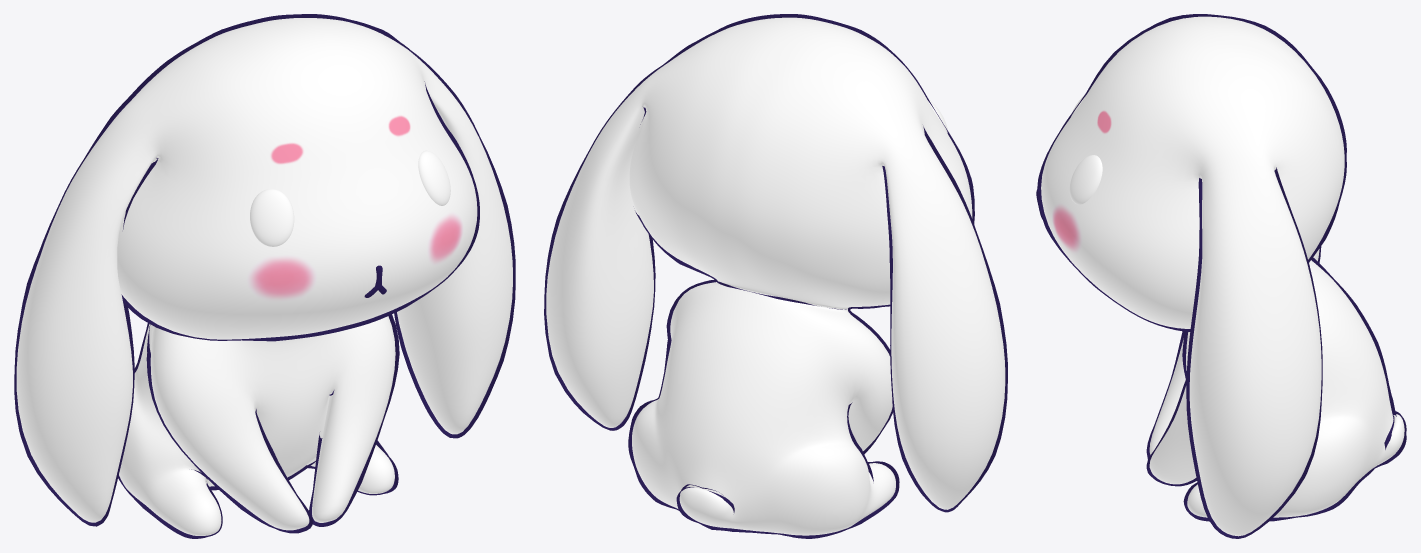
Rendered from tuzi.glb.
3 views of the same model, side by side, from view 1: azimuth 30°, elevation 25°; view 2: azimuth 150°, elevation 25°; view 3: azimuth 270°, elevation 25° (orthographic). The views are drawn at different scales.
Parts seen in each view (by area): view 1: body, eye.R, eye.L; view 2: body; view 3: body, eye.L.
Part boxes in pixels (x1=…): body: x1=14, y1=14, x2=515, y2=538; eye.R: x1=250, y1=189, x2=294, y2=246; eye.L: x1=418, y1=150, x2=450, y2=205; body: x1=544, y1=14, x2=1007, y2=538; body: x1=1037, y1=14, x2=1406, y2=538; eye.L: x1=1069, y1=155, x2=1102, y2=204.
Size of the model in its own units: 2.08 by 1.98 by 1.49.
3 materials, 1 textured.
